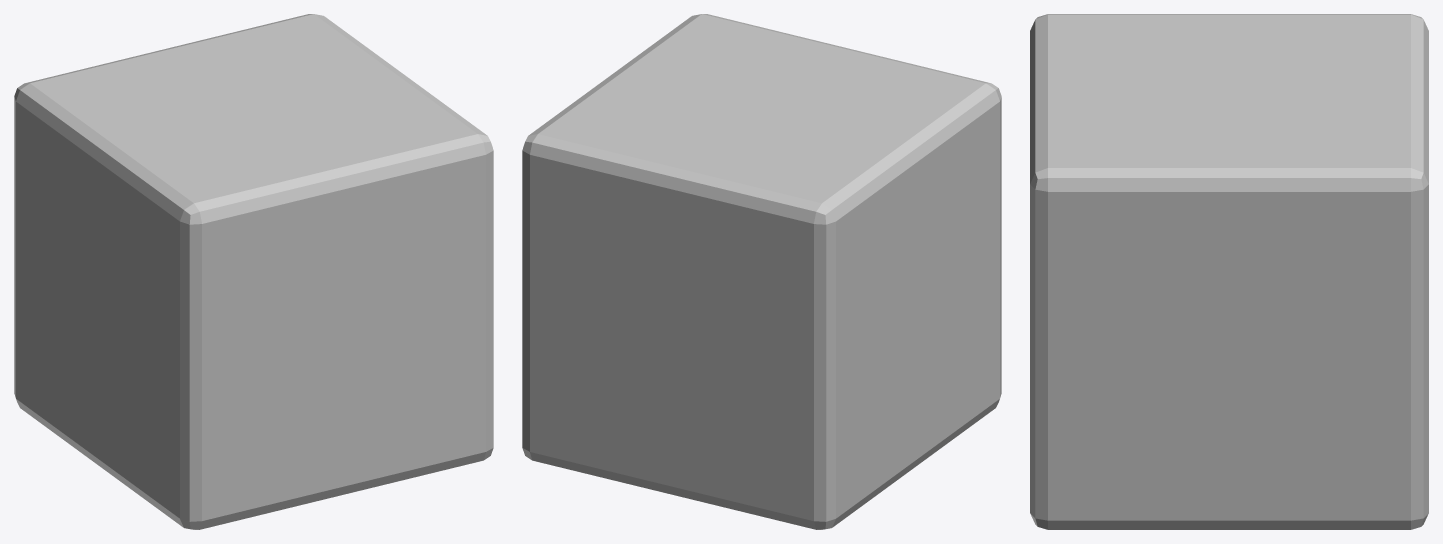
File: Die.fbx
3 renders of one model, left to right at view 1: azimuth 30°, elevation 25°; view 2: azimuth 150°, elevation 25°; view 3: azimuth 270°, elevation 25°, orthographic. The views are drawn at different scales.
Visible parts, largest first — view 1: Die; view 2: Die; view 3: Die.
Boxes of the visible parts, x1,y1,x2,y2 form: Die: [14, 14, 493, 529]; Die: [522, 14, 1001, 529]; Die: [1030, 14, 1428, 529].
Size of the model in its own units: 100 by 100 by 100.
Materials: 1 (1 with a texture image).
